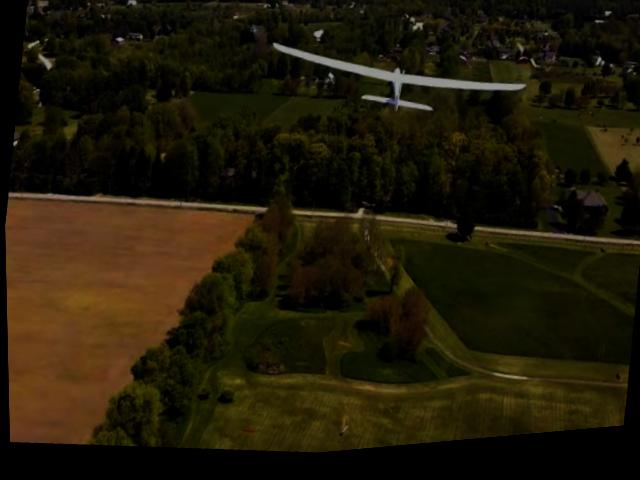iha: (266, 21, 532, 141)
